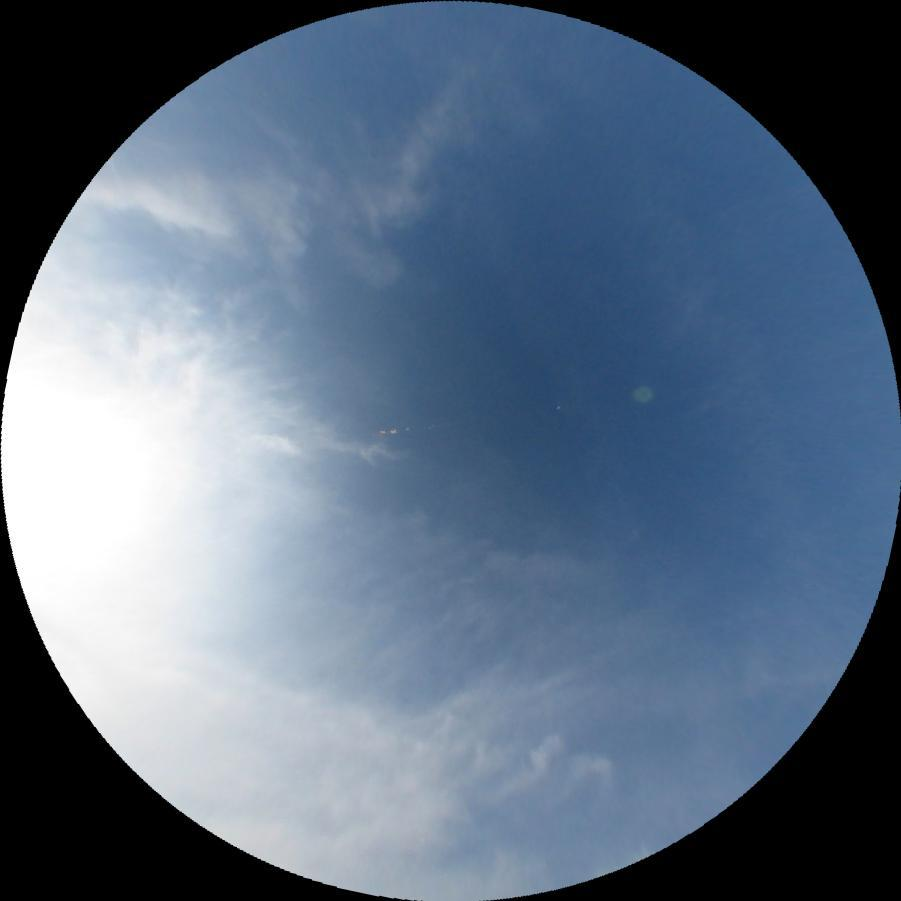contrail young: (108, 158, 125, 205)
sun: (0, 378, 165, 642)
